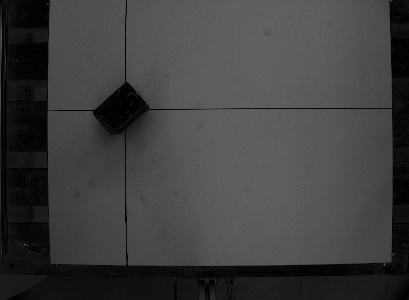kltxs: (91, 80, 152, 137)
